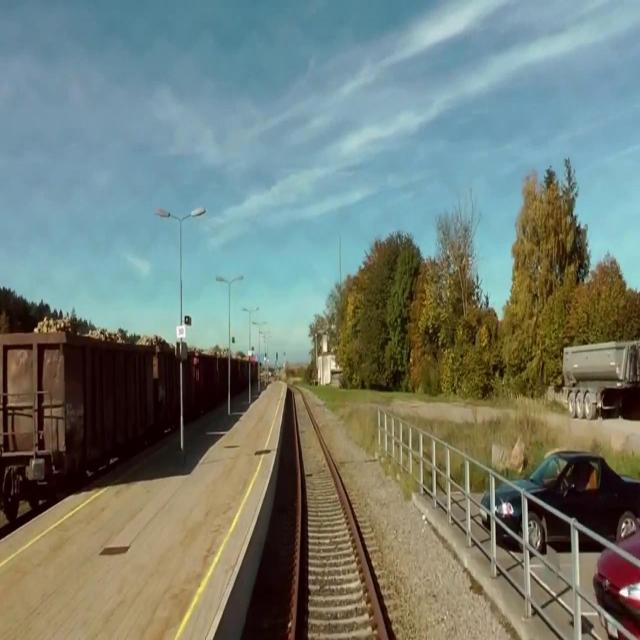rail-track: (294, 390, 383, 639)
